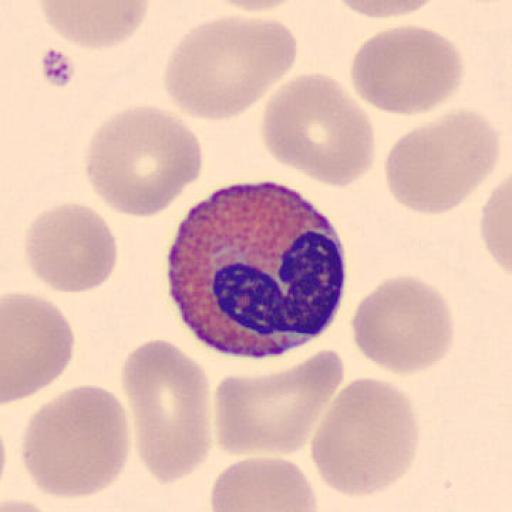RBC: (162, 14, 300, 120), (213, 348, 345, 457), (83, 103, 204, 219), (118, 338, 212, 486), (310, 375, 421, 499), (260, 72, 376, 189), (20, 383, 131, 500), (384, 107, 502, 216), (349, 23, 466, 117), (350, 273, 455, 376), (23, 200, 119, 295), (2, 290, 76, 404), (209, 455, 320, 512), (34, 0, 151, 49), (479, 175, 512, 275), (331, 0, 441, 20), (206, 0, 305, 13), (1, 498, 70, 512), (2, 496, 56, 512)
WBC: (165, 177, 348, 359)
